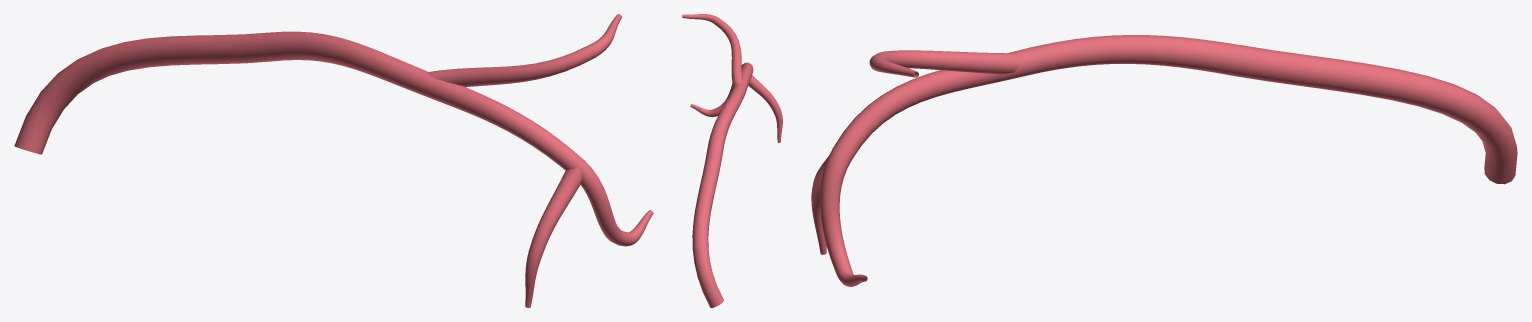
3 views of the same model, side by side, from view 1: azimuth 30°, elevation 25°; view 2: azimuth 150°, elevation 25°; view 3: azimuth 270°, elevation 25° (orthographic). The views are drawn at different scales.
Visible parts, largest first — view 1: ZA_2f37853f869adffc; view 2: ZA_2f37853f869adffc; view 3: ZA_2f37853f869adffc.
Part boxes in pixels (x1,y1,x2,y2): ZA_2f37853f869adffc: (14, 14, 653, 307); ZA_2f37853f869adffc: (682, 14, 782, 307); ZA_2f37853f869adffc: (811, 35, 1517, 286).
Bounding box in the file's own units: 0.0276 × 0.0194 × 0.044.
